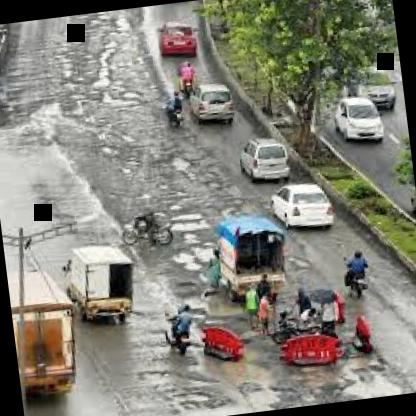car: (3, 232, 103, 405), (52, 234, 142, 342), (262, 172, 340, 247), (181, 65, 248, 132), (341, 46, 401, 117), (229, 129, 294, 194), (332, 86, 395, 150), (155, 8, 193, 61)
